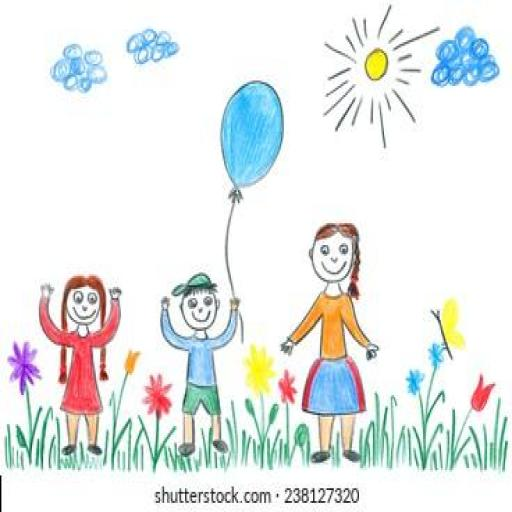person: (280, 220, 382, 465), (36, 272, 124, 456), (161, 270, 239, 462)
